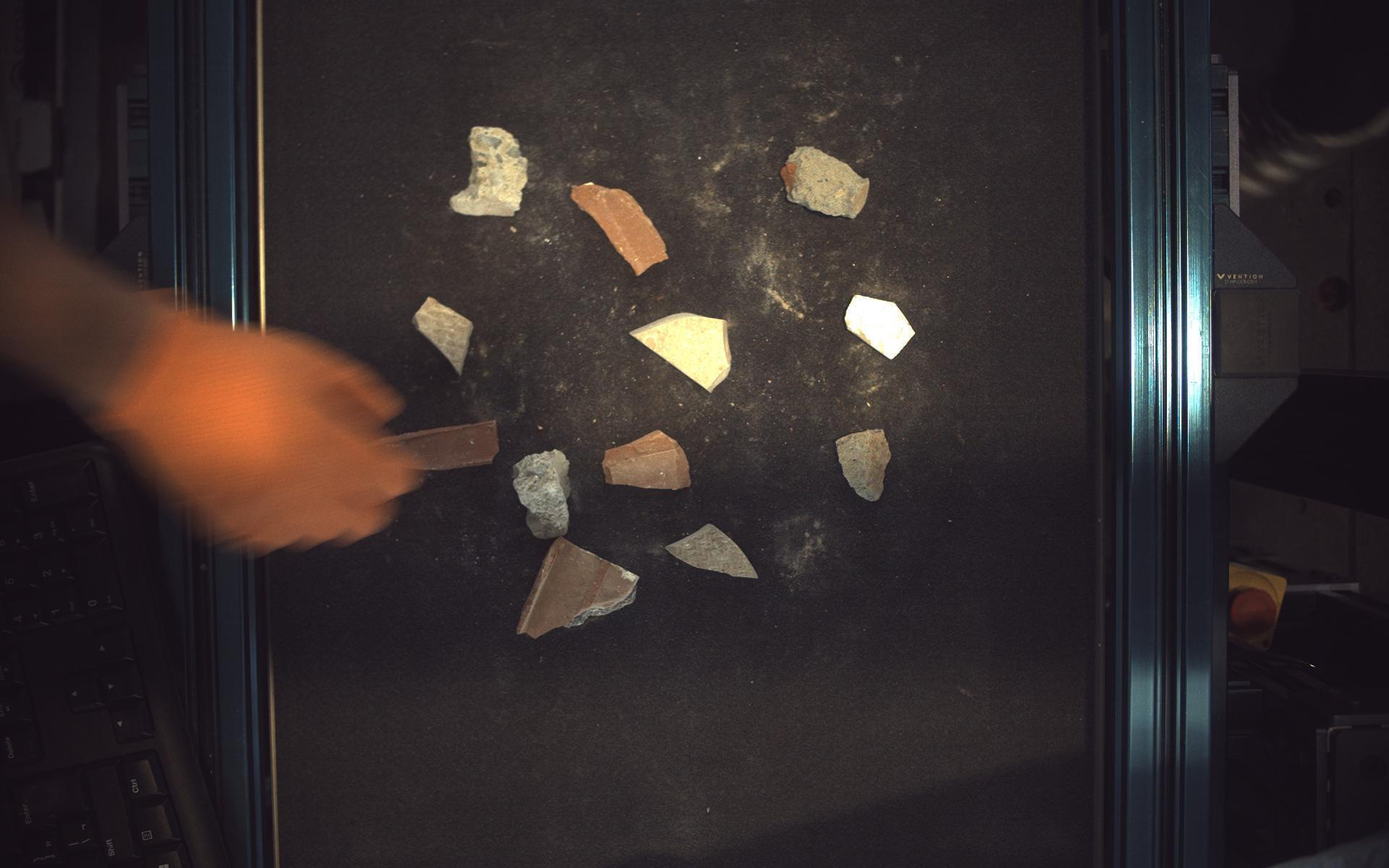brick: (517, 537, 640, 639), (572, 182, 669, 275), (380, 420, 499, 471), (603, 431, 692, 490)
concrete: (451, 126, 527, 216), (782, 146, 871, 218), (513, 450, 572, 540), (837, 429, 893, 502)
tile: (631, 312, 732, 392), (668, 524, 758, 579), (846, 294, 917, 359), (413, 297, 472, 375)
